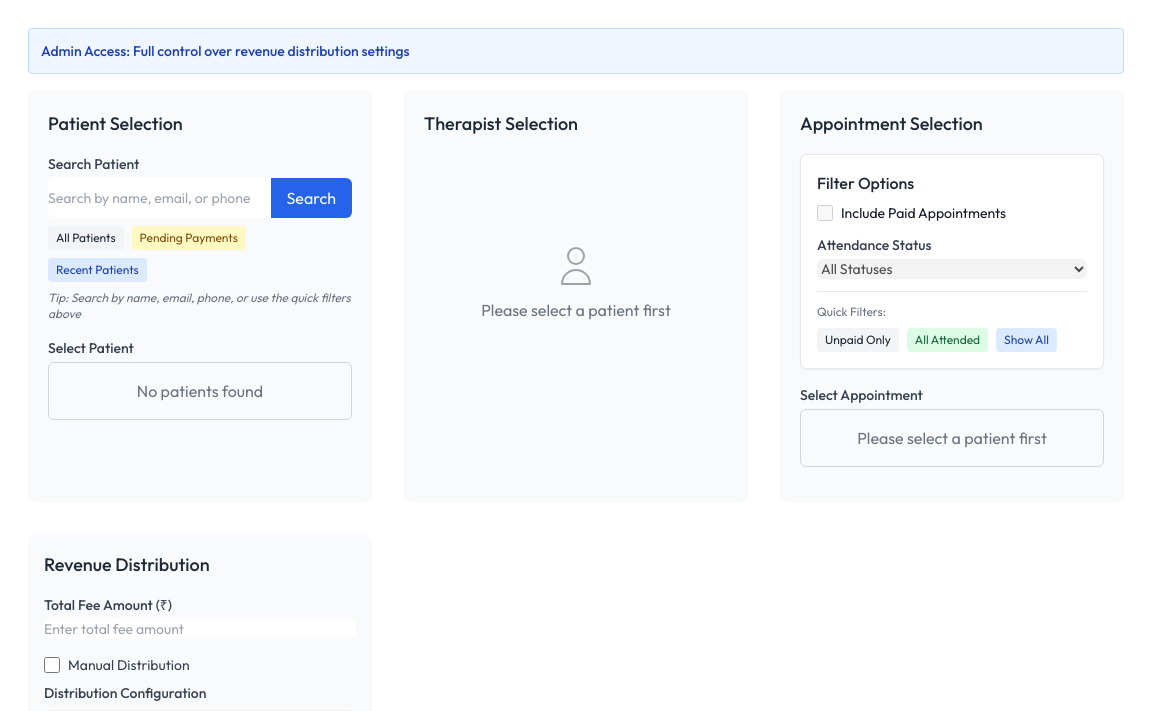
Scenario: EnhancedRevenueCalculator › searches for patients and selects one
// Type in the search box
Type "Rahul" into the field with placeholder "Search by name, email, or phone".
click(159, 198); type("Rahul")  # box x1=48 y1=178 x2=271 y2=218
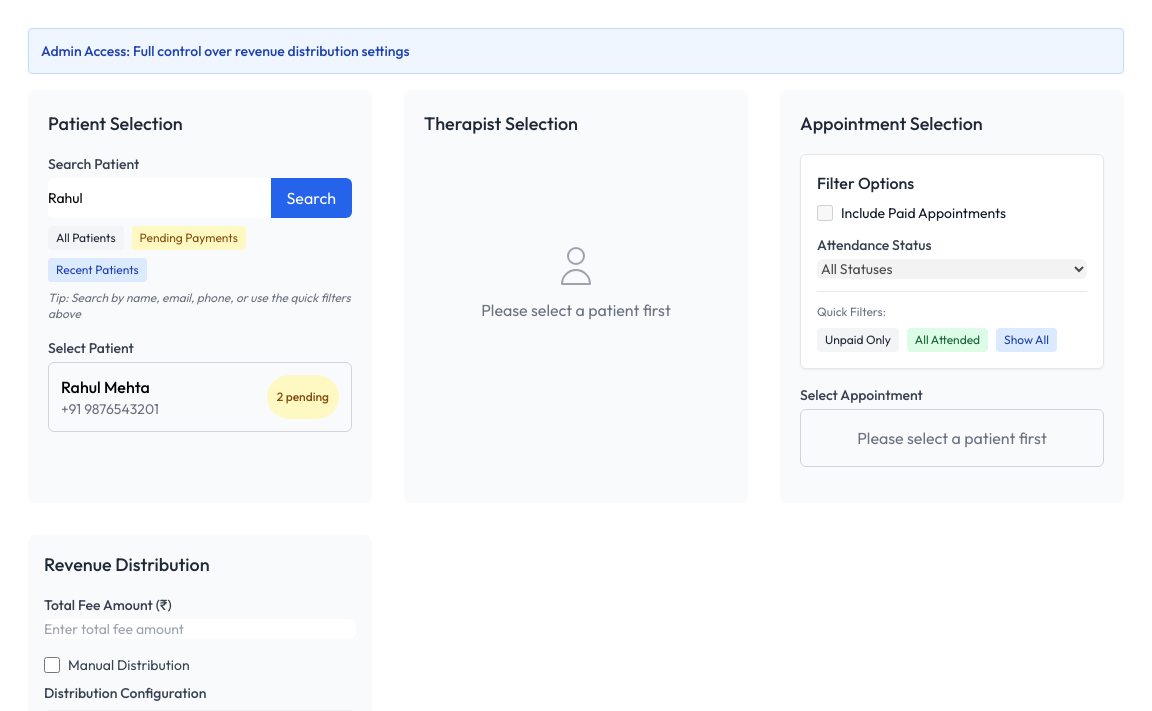
Check: the text "Rahul Mehta" is shown
// Click on the patient
Click the text "Rahul Mehta".
click(110, 387)  # box x1=61 y1=375 x2=159 y2=399
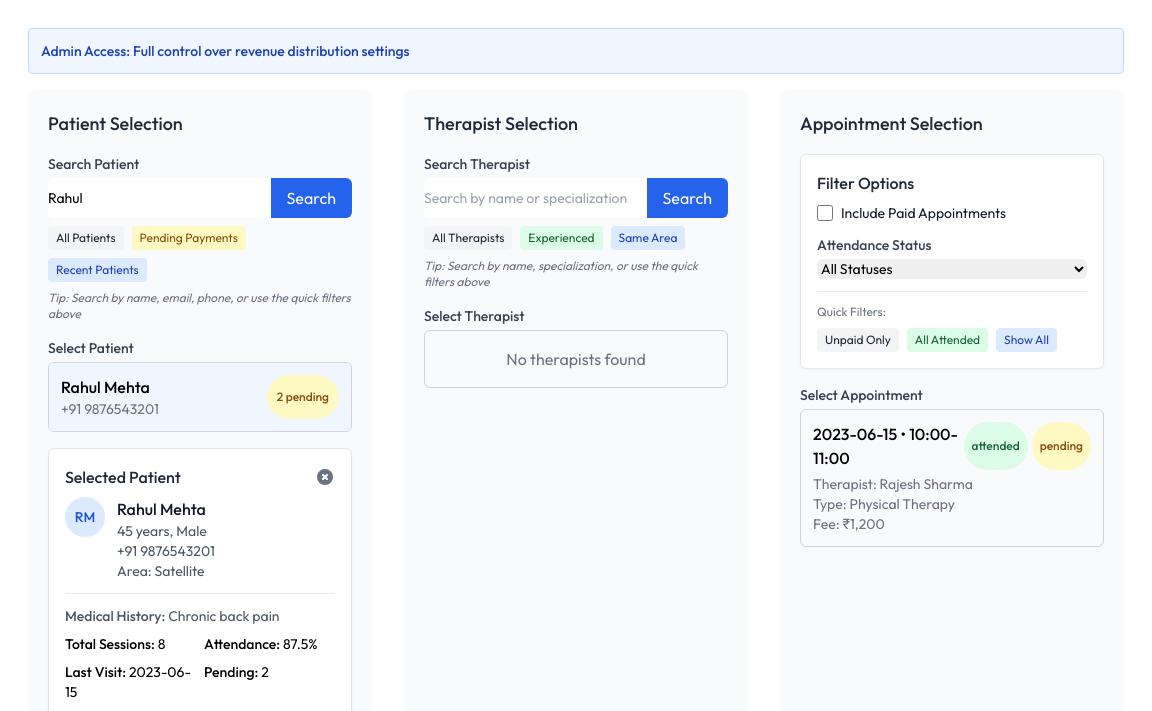
Check: the heading "Selected Patient" is shown, box x1=65 y1=465 x2=181 y2=489
Check: the text "45 years, Male" is shown, box x1=117 y1=522 x2=207 y2=540
